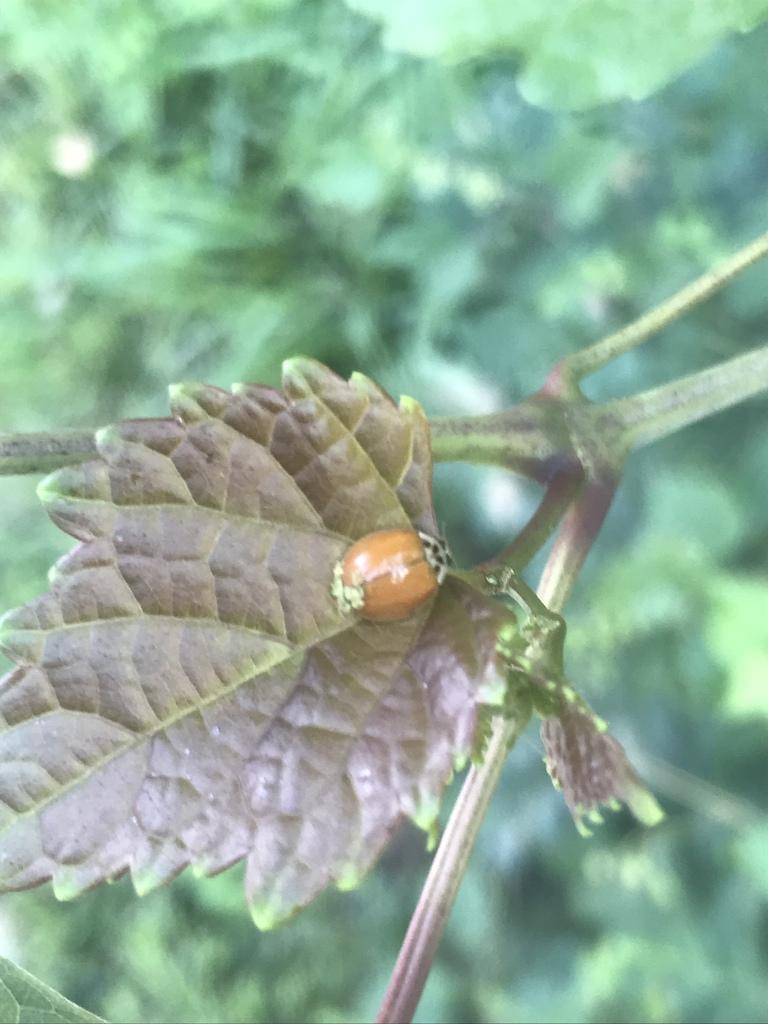ladybug: (334, 524, 459, 631)
